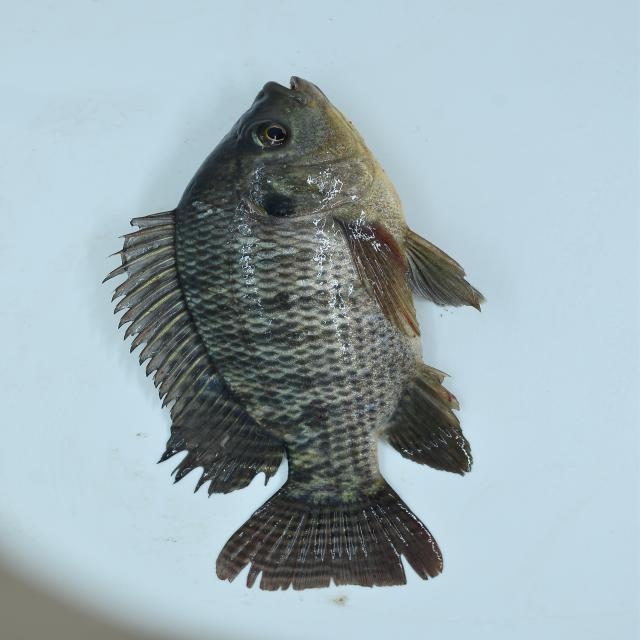Healthy Fish: (102, 77, 481, 598)
